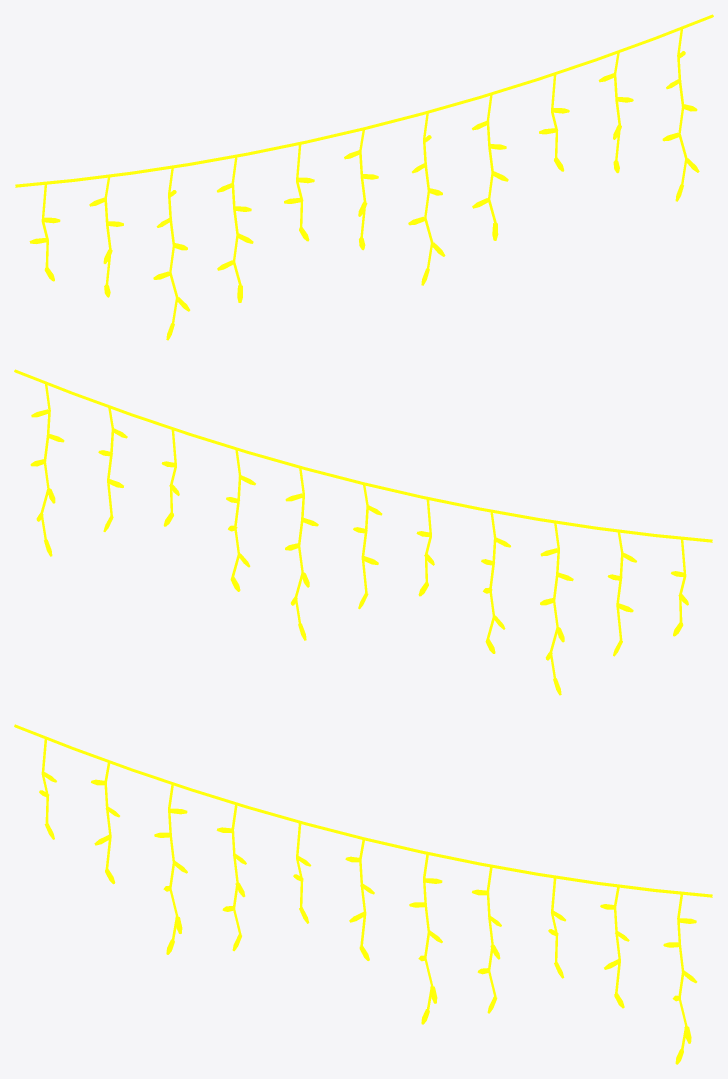
File: light-string-white-3m-christmas.glb
3 renders of one model, top to bottom at view 1: azimuth 30°, elevation 25°; view 2: azimuth 150°, elevation 25°; view 3: azimuth 330°, elevation 25°, orthographic.
Visible parts, largest first — view 1: light_string_white_3m_christmas; view 2: light_string_white_3m_christmas; view 3: light_string_white_3m_christmas.
Part boxes in pixels (bbox=[...]): light_string_white_3m_christmas: bbox=[15, 14, 713, 340]; light_string_white_3m_christmas: bbox=[14, 369, 712, 695]; light_string_white_3m_christmas: bbox=[14, 724, 712, 1064].
Size of the model in its own units: 3 by 0.8236 by 0.0886.
2 materials, 2 textured.
